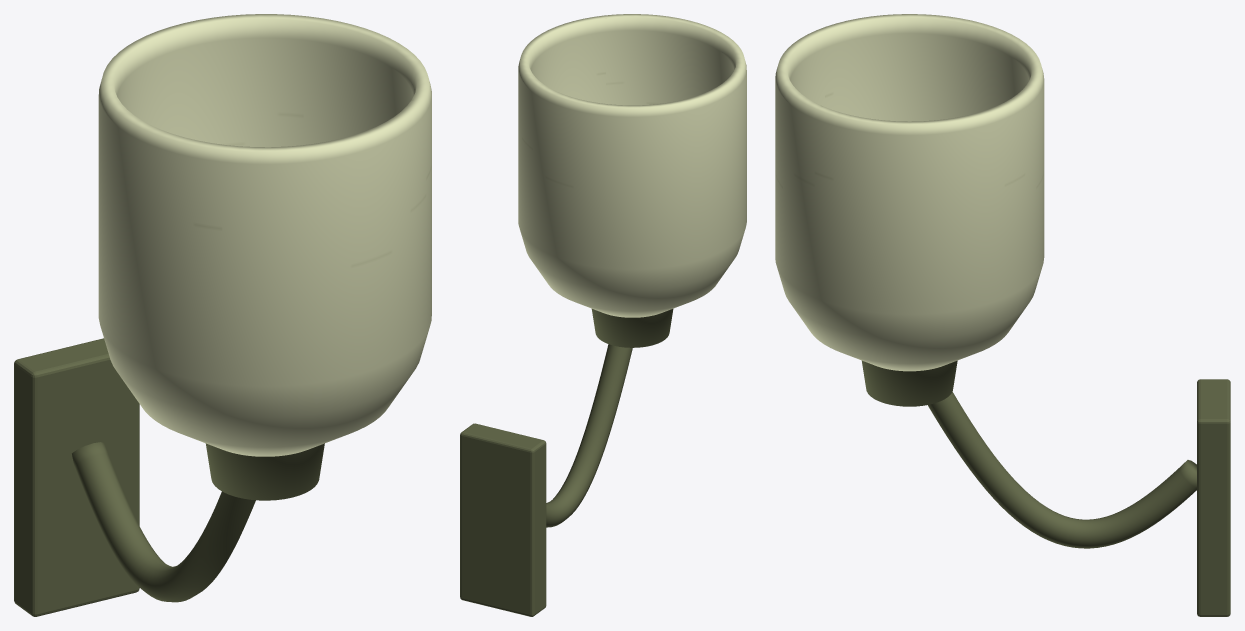
File: CurvedLamp_ARCH01.fbx
3 renders of one model, left to right at view 1: azimuth 30°, elevation 25°; view 2: azimuth 150°, elevation 25°; view 3: azimuth 270°, elevation 25°, orthographic. The views are drawn at different scales.
Visible parts, largest first — view 1: CurvedLamp; view 2: CurvedLamp; view 3: CurvedLamp.
Boxes of the visible parts, x1,y1,x2,y2 form: CurvedLamp: (14,14,431,616); CurvedLamp: (460,14,746,616); CurvedLamp: (775,14,1230,616).
Size of the model in its own units: 0.222 by 0.48 by 0.376.
Materials: 2 (1 with a texture image).
